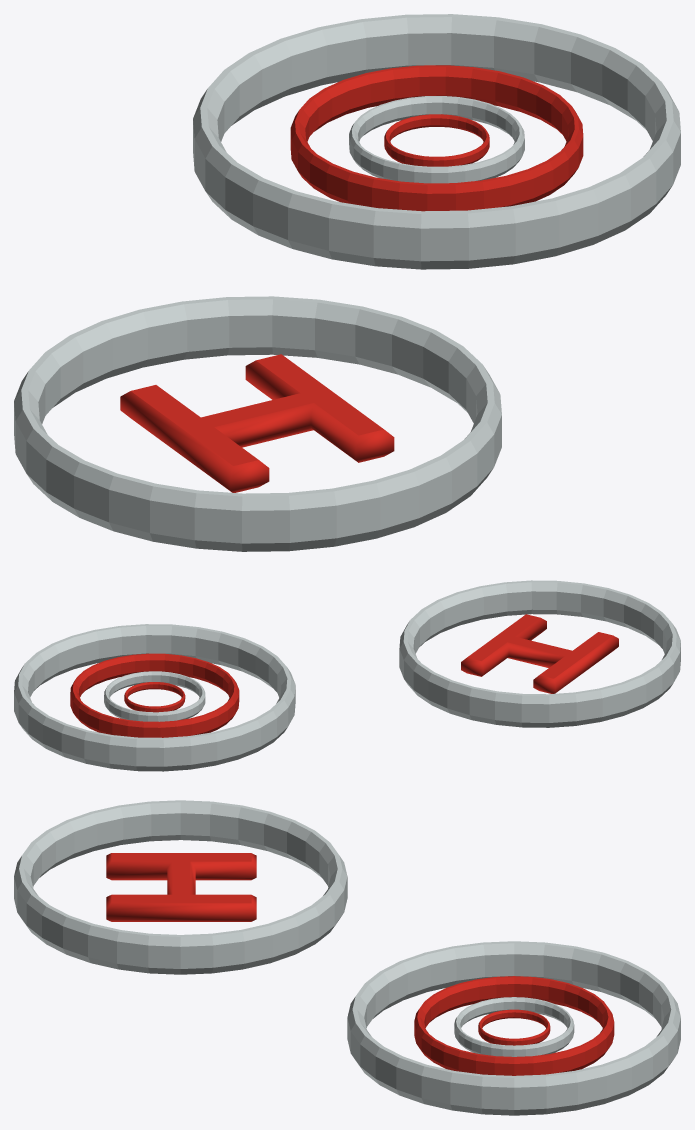
Rendered from Target landing zone.fbx.
3 renders of one model, top to bottom at view 1: azimuth 30°, elevation 25°; view 2: azimuth 150°, elevation 25°; view 3: azimuth 270°, elevation 25°, orthographic. The views are drawn at different scales.
Visible parts, largest first — view 1: Landing Zone Object.003, Landing Zone Object; view 2: Landing Zone Object.003, Landing Zone Object; view 3: Landing Zone Object.003, Landing Zone Object.
Part boxes in pixels (x1=…): Landing Zone Object.003: x1=193, y1=14, x2=680, y2=269; Landing Zone Object: x1=14, y1=296, x2=501, y2=551; Landing Zone Object.003: x1=14, y1=624, x2=295, y2=771; Landing Zone Object: x1=399, y1=580, x2=680, y2=727; Landing Zone Object.003: x1=347, y1=941, x2=680, y2=1115; Landing Zone Object: x1=14, y1=800, x2=347, y2=974.
Size of the model in its own units: 1600 by 100 by 1600.
